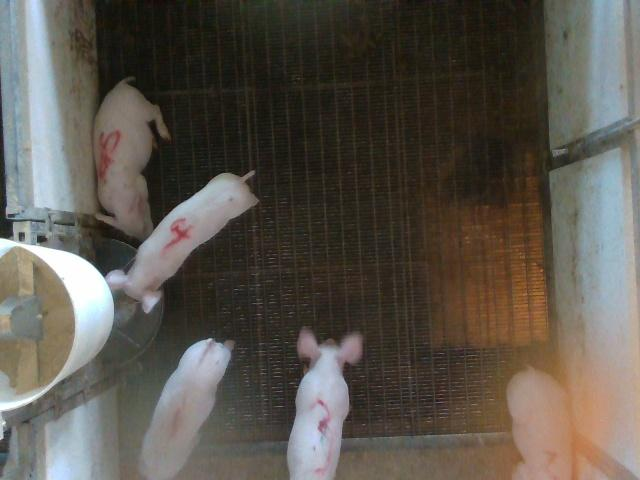pig-1: (140, 339, 233, 479)
pig-2: (506, 366, 571, 478)
pig-3: (288, 328, 362, 479)
pig-4: (105, 171, 258, 312)
pig-5: (94, 78, 170, 239)
